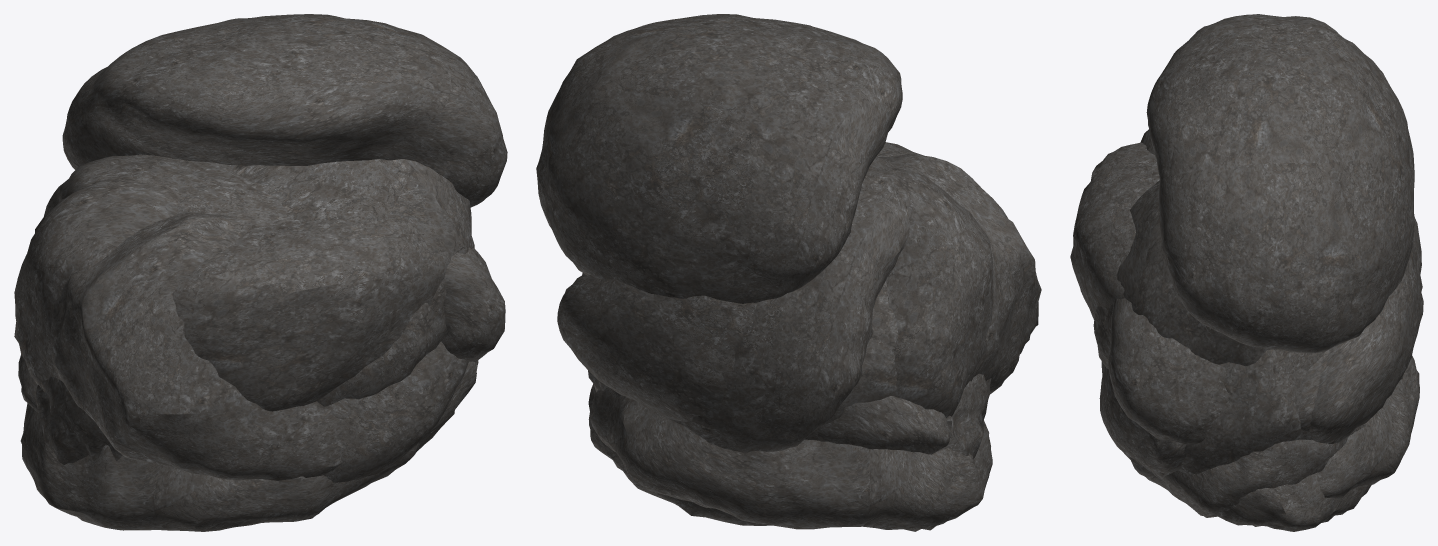
Rendered from Asteroids.fbx.
The picture shows the model from 3 angles, left to right: view 1: azimuth 30°, elevation 25°; view 2: azimuth 150°, elevation 25°; view 3: azimuth 270°, elevation 25°; orthographic projection. The views are drawn at different scales.
Parts seen in each view (by area): view 1: rock.031, rock.037, rock.034, rock.027, rock.025, rock.028, rock.020, rock.035, rock.024, rock.022; view 2: rock.031, rock.027, rock.028, rock.032, rock.020, rock.037, rock.022, rock.024, rock.039; view 3: rock.031, rock.028, rock.035, rock.032, rock.034, rock.025, rock.033, rock.027, rock.039, rock.037, rock.023, rock.022.
Part boxes in pixels (box(x1,y1,x2,y2)): rock.031: box(62, 14, 507, 207); rock.037: box(50, 211, 478, 480); rock.034: box(172, 217, 451, 411); rock.027: box(20, 403, 422, 531); rock.025: box(228, 159, 474, 406); rock.028: box(35, 154, 505, 362); rock.020: box(14, 175, 180, 392); rock.035: box(323, 341, 468, 482); rock.024: box(36, 376, 122, 464); rock.022: box(18, 354, 38, 412); rock.031: box(536, 14, 902, 303); rock.027: box(590, 387, 992, 531); rock.028: box(668, 156, 909, 452); rock.032: box(557, 274, 898, 440); rock.020: box(884, 167, 993, 418); rock.037: box(879, 154, 1041, 394); rock.022: box(817, 396, 950, 454); rock.024: box(937, 373, 991, 458); rock.039: box(588, 384, 788, 527); rock.031: box(1146, 14, 1414, 353); rock.028: box(1108, 216, 1422, 444); rock.035: box(1099, 349, 1330, 474); rock.032: box(1309, 242, 1423, 444); rock.034: box(1070, 142, 1159, 319); rock.025: box(1093, 180, 1276, 369); rock.033: box(1152, 423, 1365, 517); rock.027: box(1129, 355, 1419, 499); rock.039: box(1218, 472, 1371, 531); rock.037: box(1101, 129, 1186, 478); rock.023: box(1298, 349, 1329, 431); rock.022: box(1273, 349, 1325, 374).
Size of the model in its own units: 432 by 419 by 310.
Materials: 1 (1 with a texture image).
